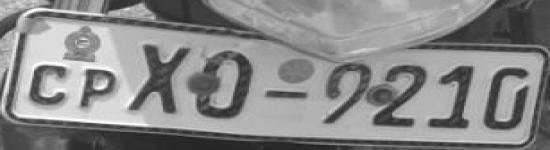-: (258, 84, 311, 104)
0: (479, 64, 533, 132)
1: (428, 60, 478, 130)
2: (374, 62, 428, 128)
9: (318, 59, 375, 128)
C: (24, 61, 70, 107)
O: (192, 43, 258, 122)
P: (74, 64, 121, 112)
X: (125, 40, 193, 118)
